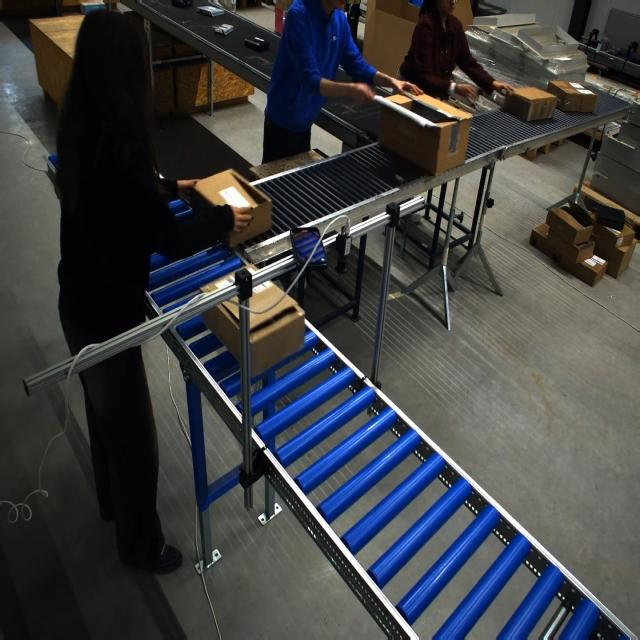box: (202, 269, 305, 373), (377, 91, 469, 176), (190, 168, 271, 247), (502, 86, 557, 122)
product: (243, 36, 269, 51), (196, 5, 225, 17), (213, 23, 234, 35), (171, 0, 192, 8)
